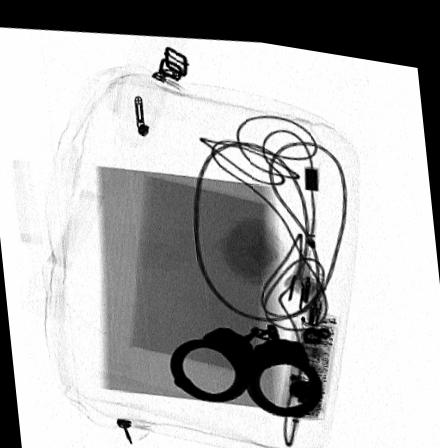HandCuffs: (169, 312, 323, 406)
